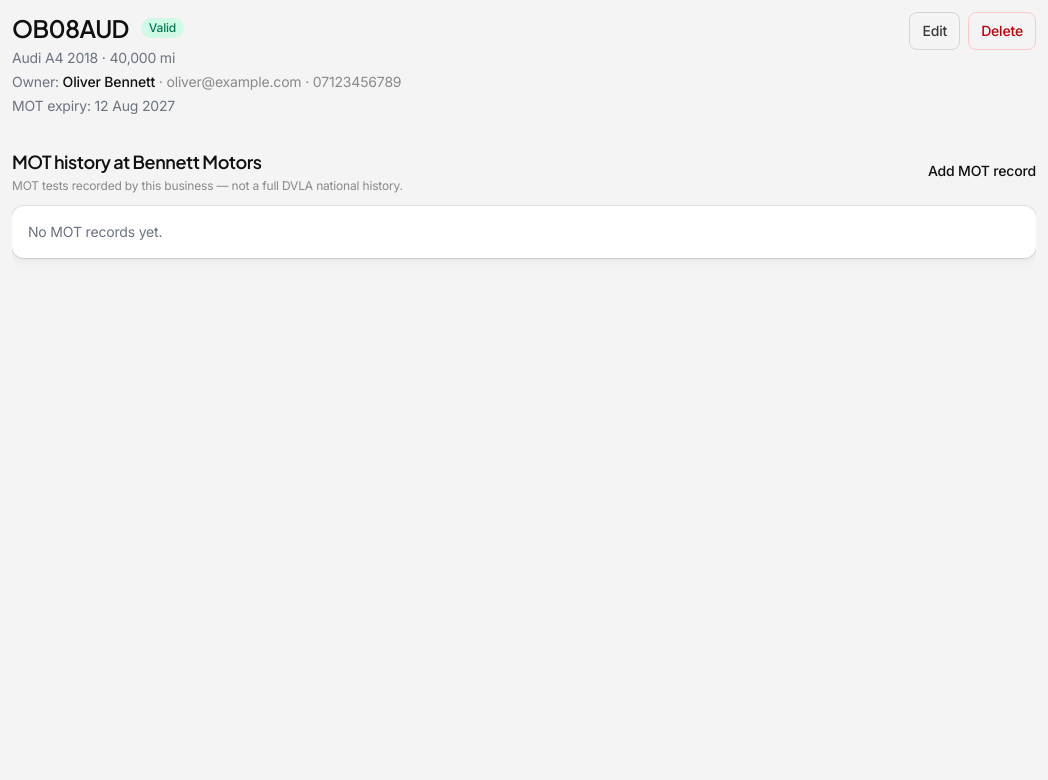
it: VehicleDetail — adding an MOT record › records a pass with its new expiry date
Expected: the heading "OB08AUD" is shown, [12,12,129,44]
Click the button "Add MOT record".
click(982, 171)  # box [928,161,1036,181]
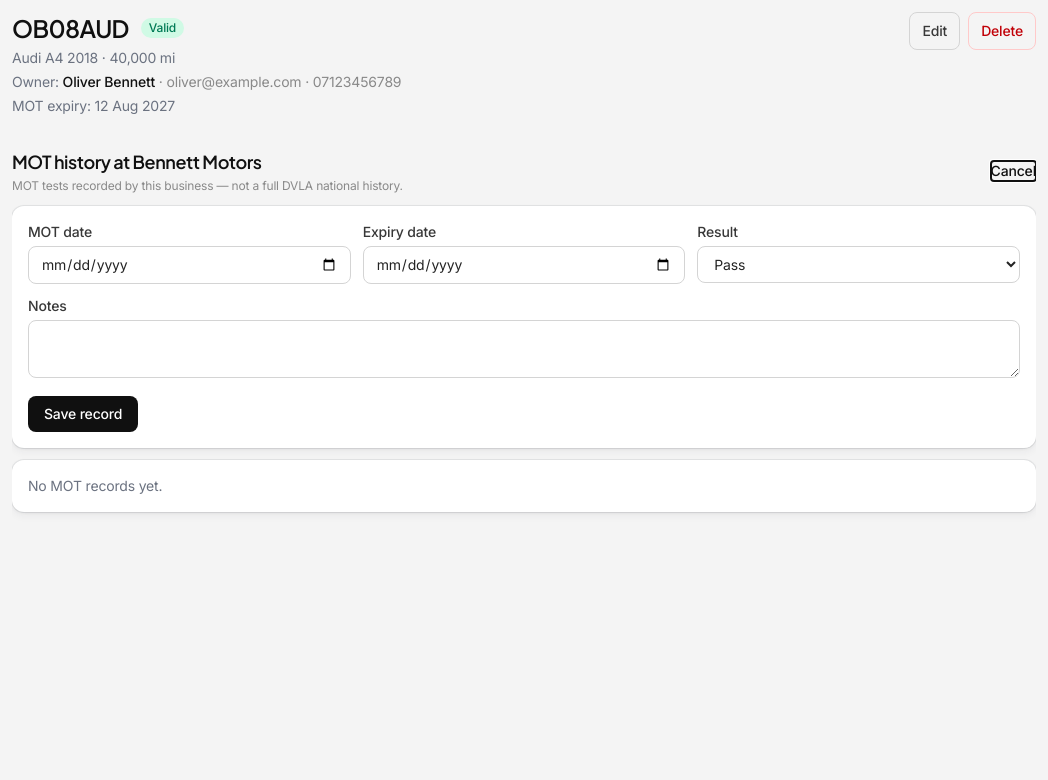
Type "2026-06-01" into the date field labelled "MOT date".
click(189, 265); type("2026-06-01")  # box [28,246,351,284]
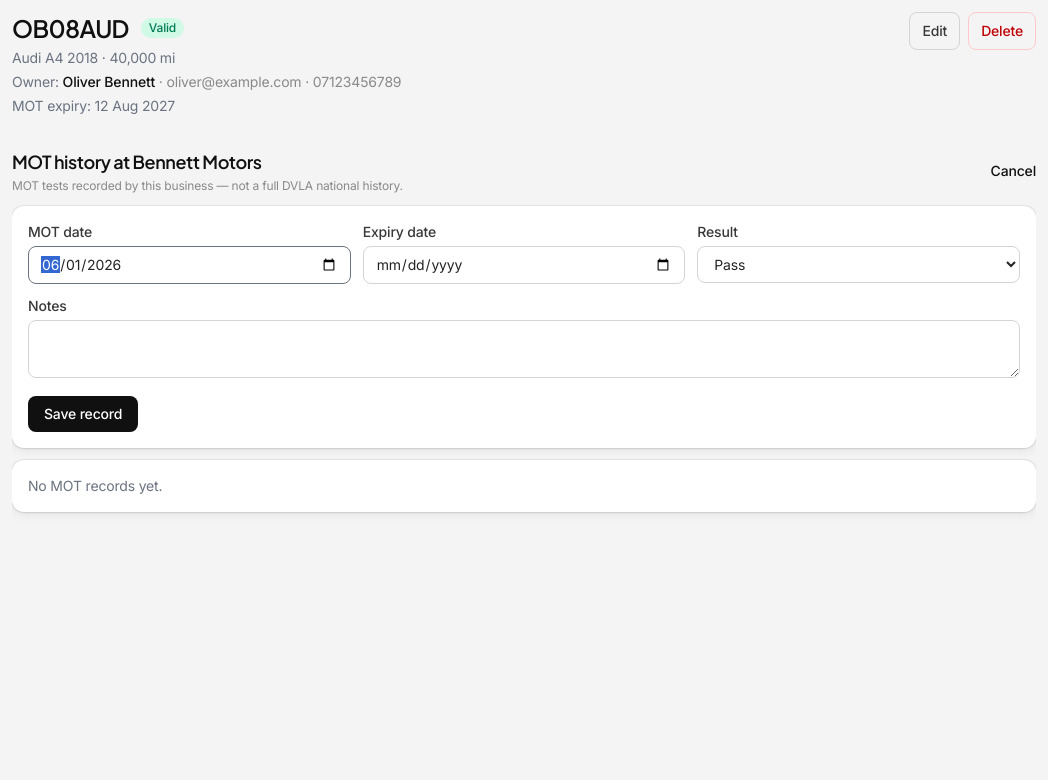
Type "2027-06-01" into the date field labelled "Expiry date".
click(524, 265); type("2027-06-01")  # box [363,246,685,284]
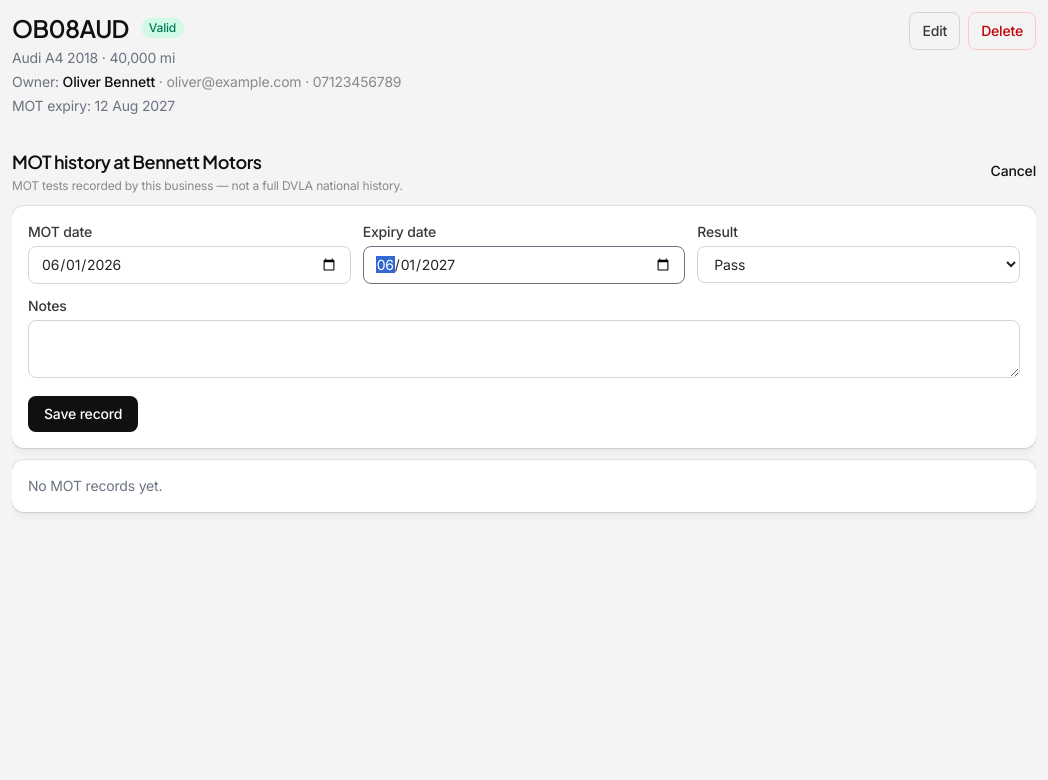
Type "All good." into the text box labelled "Notes".
click(524, 349); type("All good.")  # box [28,320,1020,378]
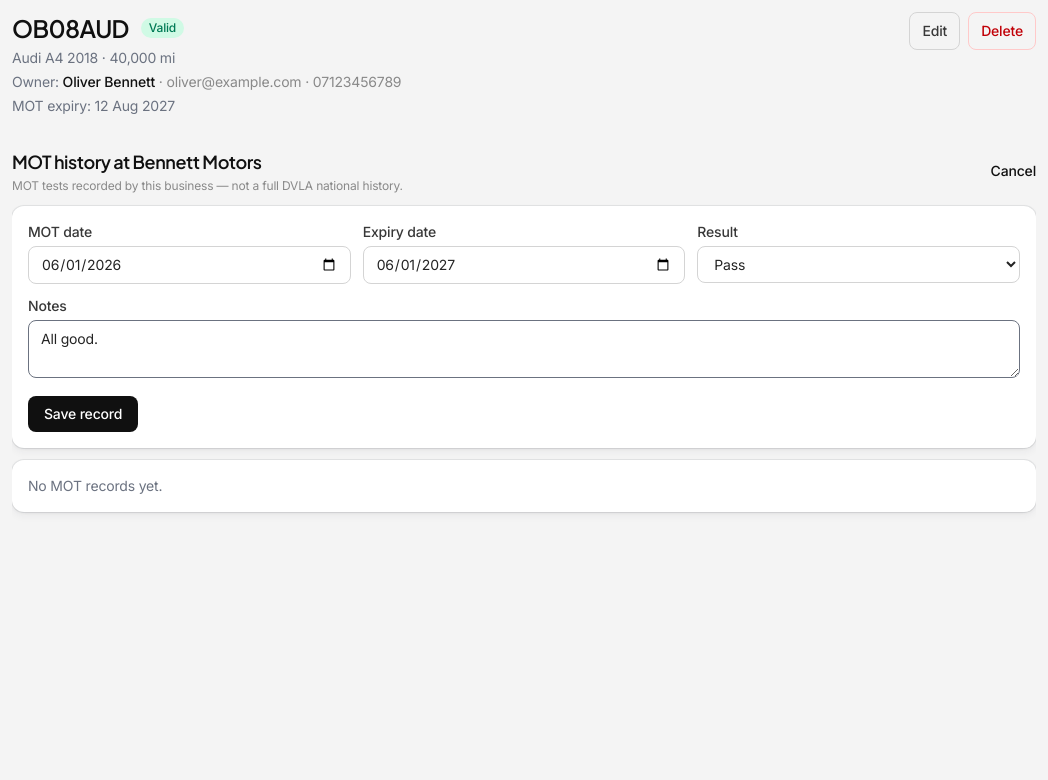
Click the button "Save record".
click(83, 414)  # box [28,396,138,432]
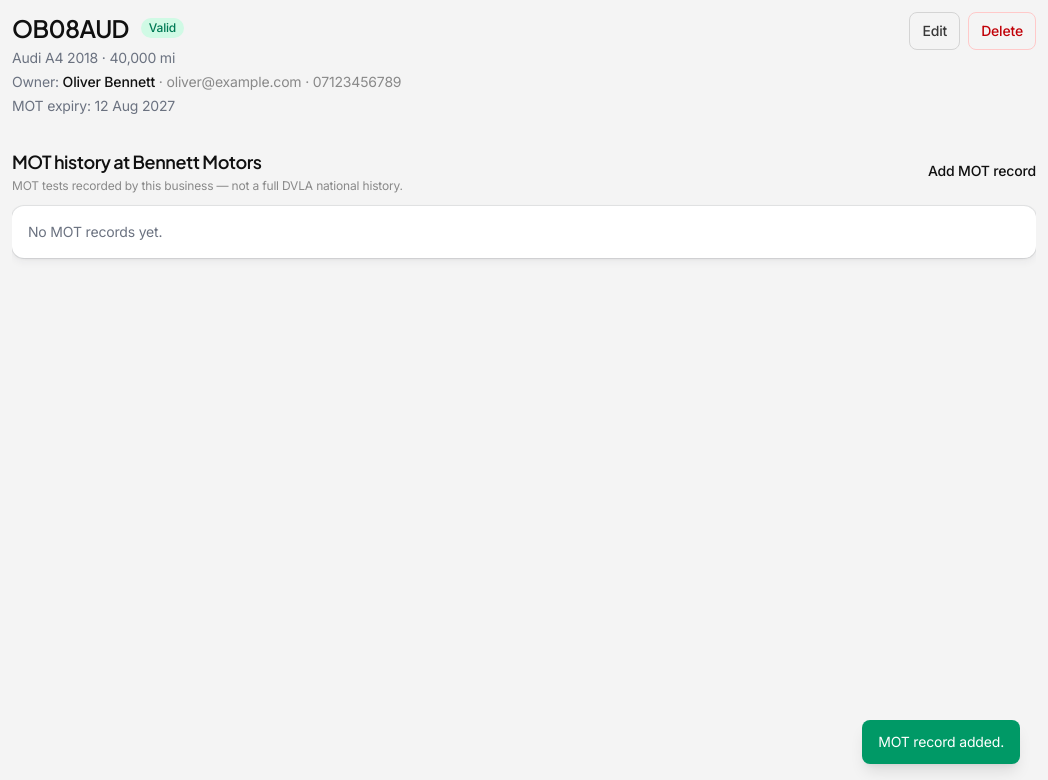
Expected: the text "MOT record added." is shown, [862,720,1020,764]
